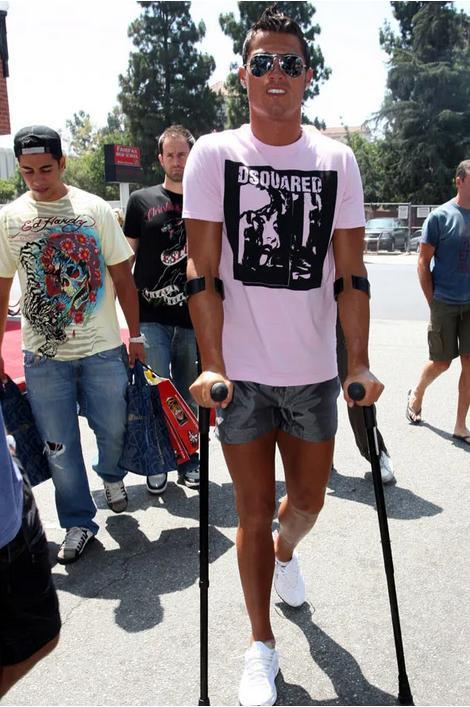crutches: (181, 0, 416, 707)
